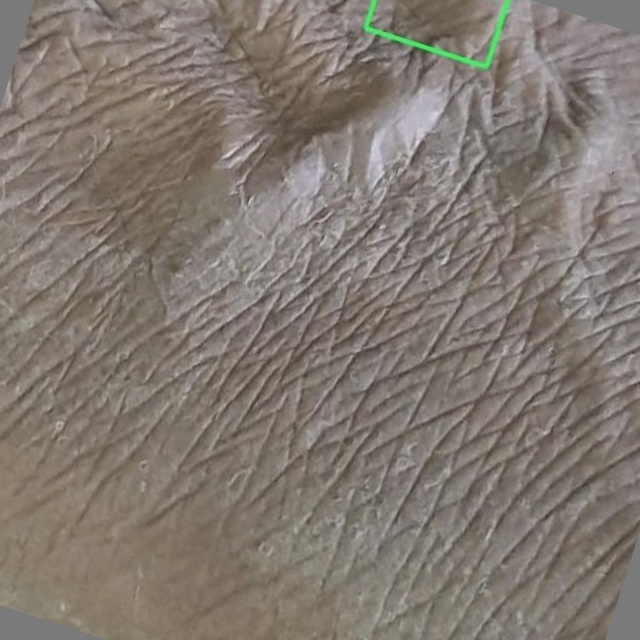Eczema: (365, 0, 508, 67)
